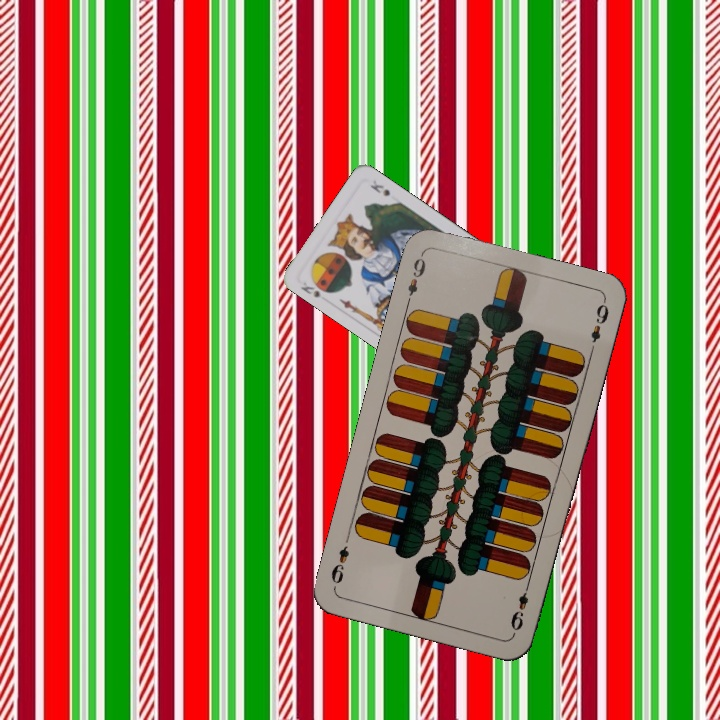E9: (506, 578, 533, 636), (402, 249, 428, 307)
SK: (297, 278, 331, 305)
